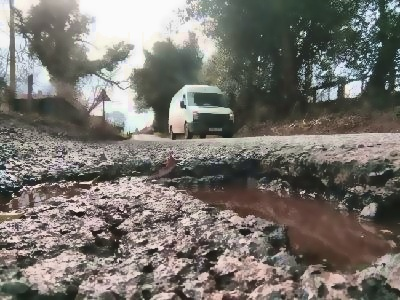pothole: (0, 155, 399, 283)
